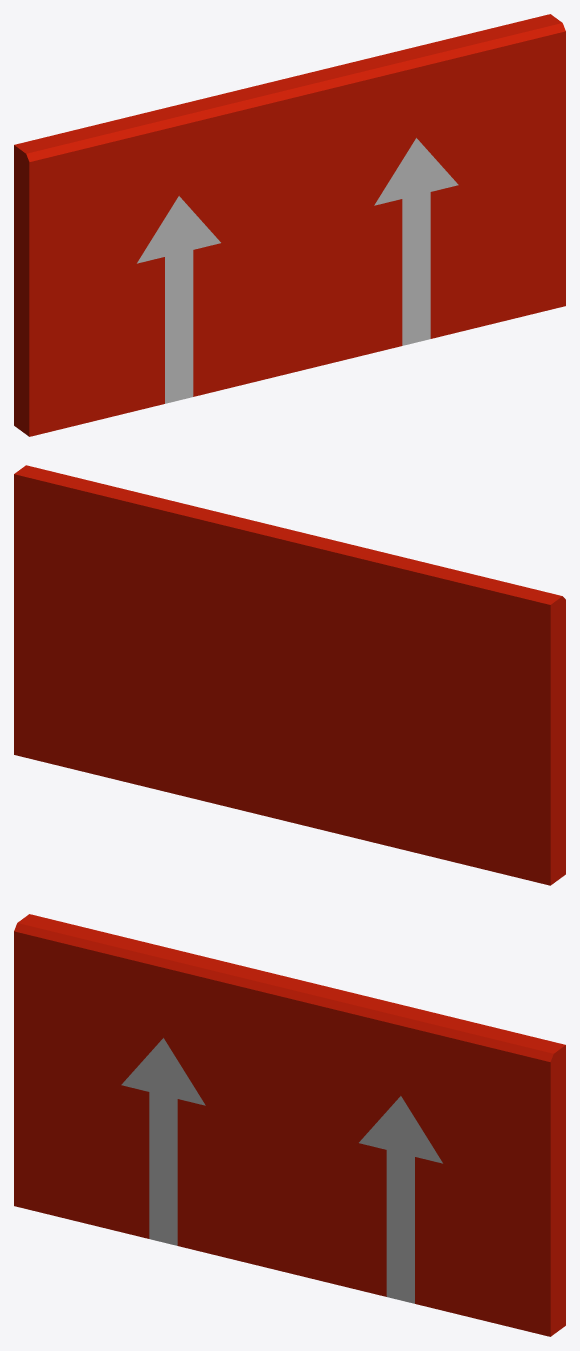
The model's file is wall bot.obj.
3 renders of one model, top to bottom at view 1: azimuth 30°, elevation 25°; view 2: azimuth 150°, elevation 25°; view 3: azimuth 330°, elevation 25°, orthographic.
Parts seen in each view (by area): view 1: Plane.001_Plane.003; view 2: Plane.001_Plane.003; view 3: Plane.001_Plane.003.
Boxes of the visible parts, <box> form: Plane.001_Plane.003: <box>14,14,565,436</box>; Plane.001_Plane.003: <box>14,465,565,885</box>; Plane.001_Plane.003: <box>14,914,565,1336</box>.
Bounding box in the file's own units: 4 × 2 × 0.2.
